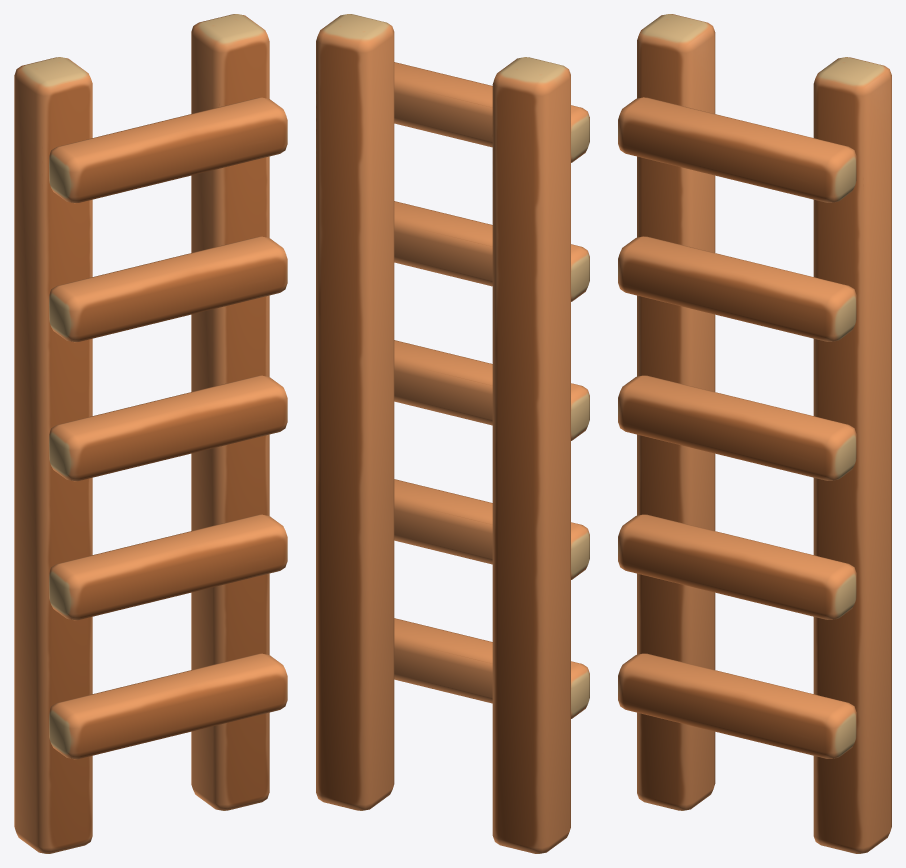
The model's file is stair.fbx.
The picture shows the model from 3 angles, left to right: view 1: azimuth 30°, elevation 25°; view 2: azimuth 150°, elevation 25°; view 3: azimuth 330°, elevation 25°; orthographic projection.
Parts seen in each view (by area): view 1: stair.001; view 2: stair.001; view 3: stair.001.
Part boxes in pixels (<box>): stair.001: <box>14,14,287,853</box>; stair.001: <box>316,14,589,853</box>; stair.001: <box>618,14,891,853</box>.
Size of the model in its own units: 118 by 375 by 48.78.
Materials: 1 (1 with a texture image).
